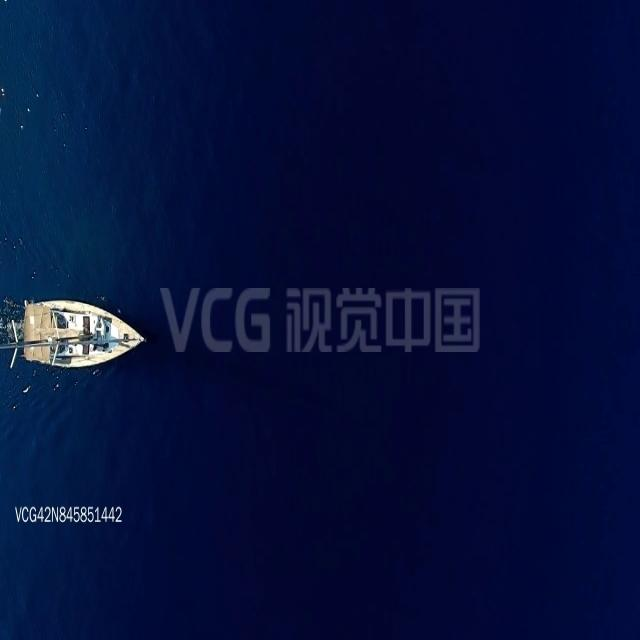sailboat: (9, 298, 147, 370)
